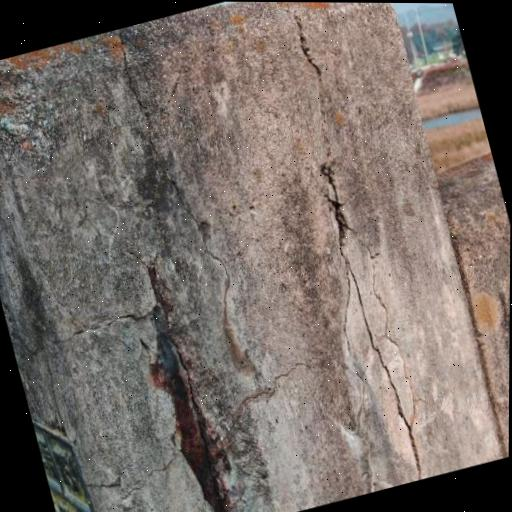exposed_rebar: (148, 267, 222, 512)
